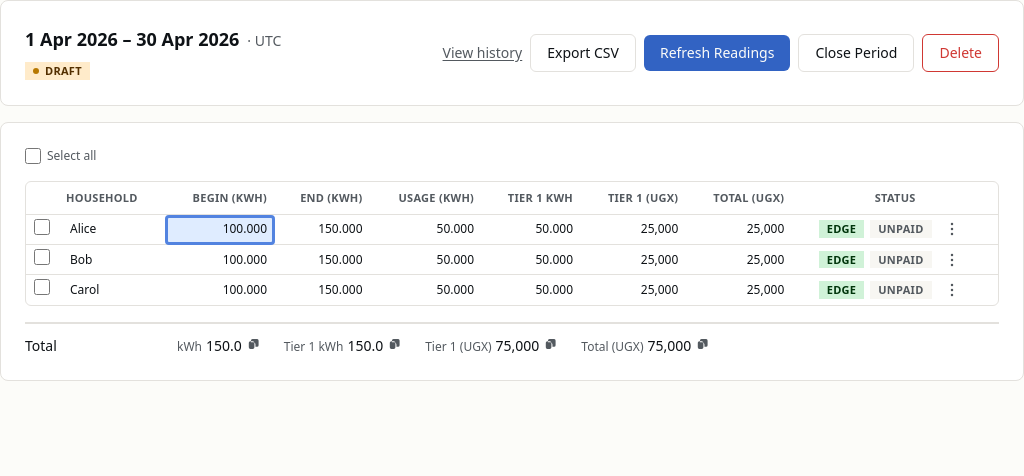
Test: BillingTable BC3 — multi-select › Select-all header checkbox toggles all rows; second click clears
The width and height of the screenshot is (1024, 476).
Click the checkbox named "Select all 3 rows" at {"x": 33, "y": 156}, box [25,148,41,164]
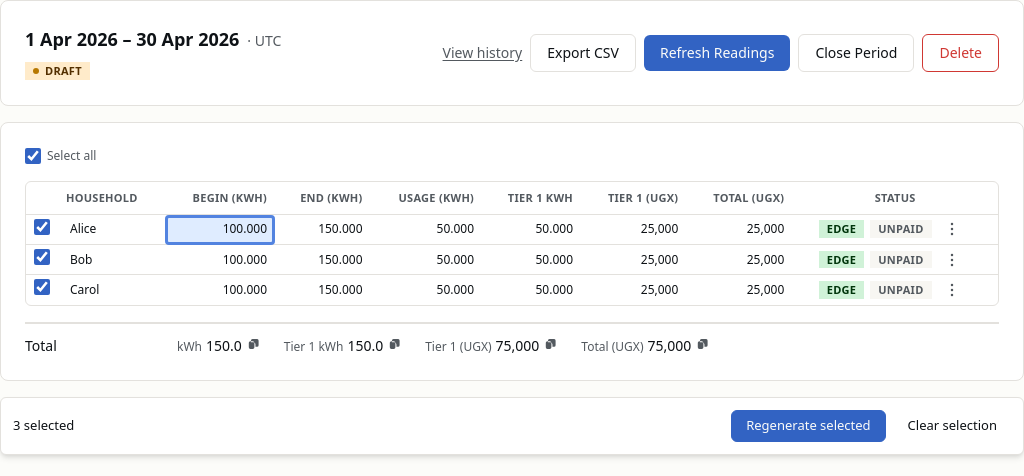
Expected: the element with test id "sticky-selection-bar" shows "3 selected", [0,396,1023,454]
// Second click clears all.
Click the checkbox named "Select all 3 rows" at {"x": 33, "y": 156}, box [25,148,41,164]
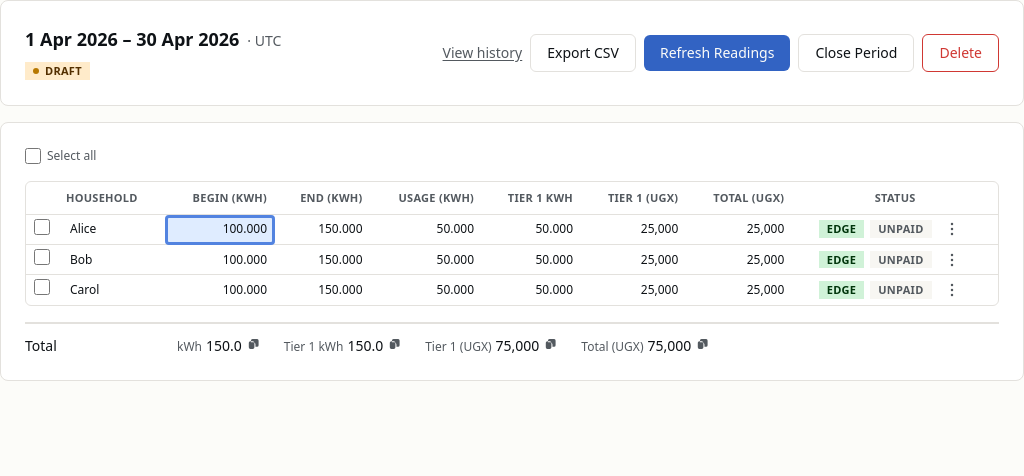
Expected: the element with test id "sticky-selection-bar" is gone
